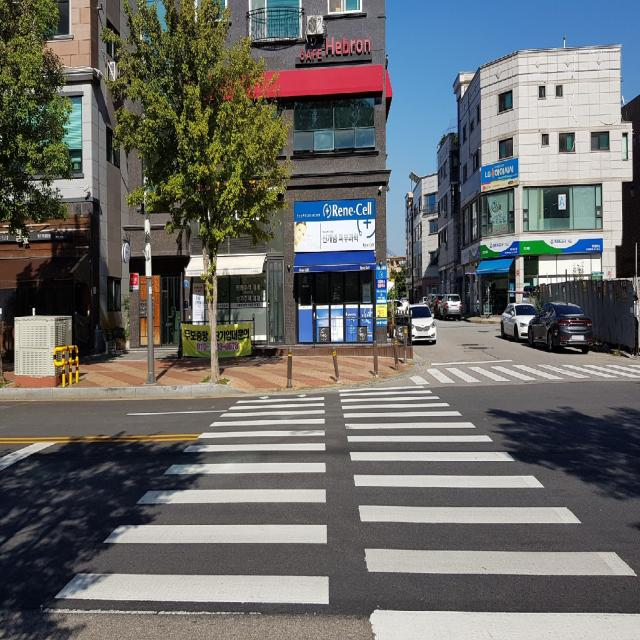횡단보도: (42, 385, 640, 639), (412, 346, 636, 386)
